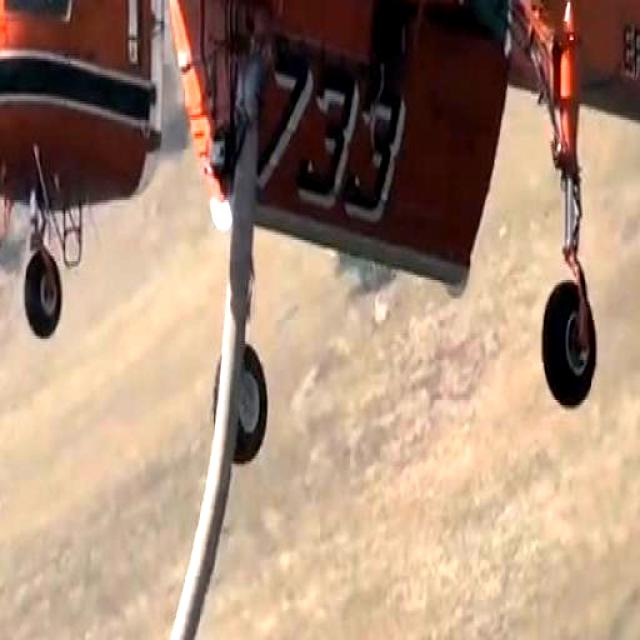drone: (0, 0, 640, 392)
